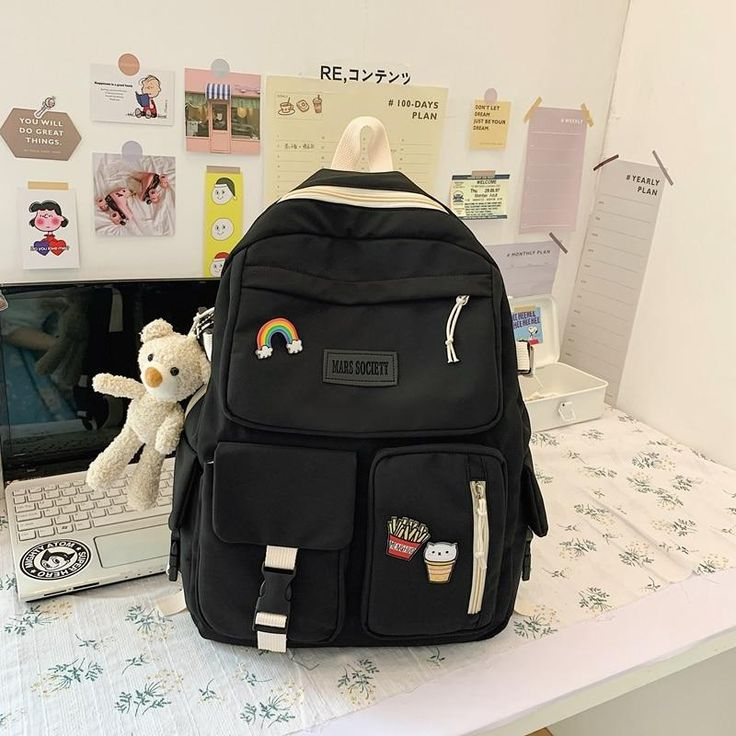nylon: (180, 170, 549, 648)
